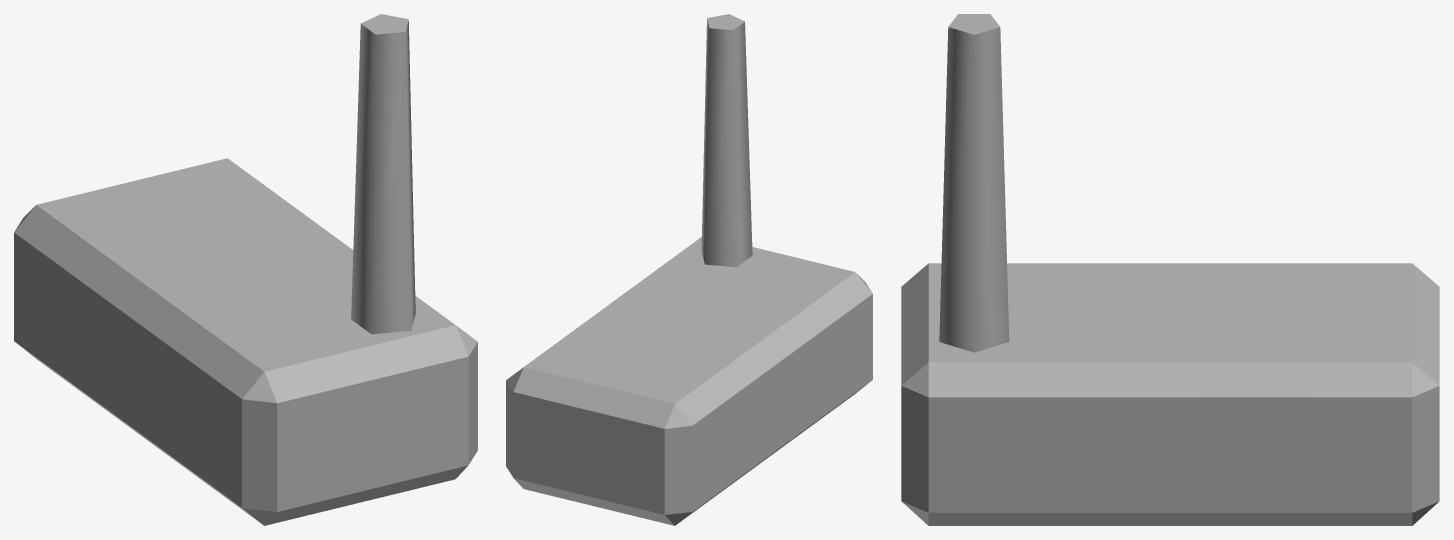
The picture shows the model from 3 angles, left to right: view 1: azimuth 30°, elevation 25°; view 2: azimuth 150°, elevation 25°; view 3: azimuth 270°, elevation 25°; orthographic projection. The views are drawn at different scales.
Parts seen in each view (by area): view 1: Lo-Body_01; view 2: Lo-Body_01; view 3: Lo-Body_01.
Part boxes in pixels (box(x1,y1,x2,y2)): Lo-Body_01: box(14, 14, 477, 525); Lo-Body_01: box(506, 14, 872, 525); Lo-Body_01: box(901, 14, 1439, 525).
Bounding box in the file's own units: 0.0733 × 0.1339 × 0.1367.
1 material, 1 textured.
